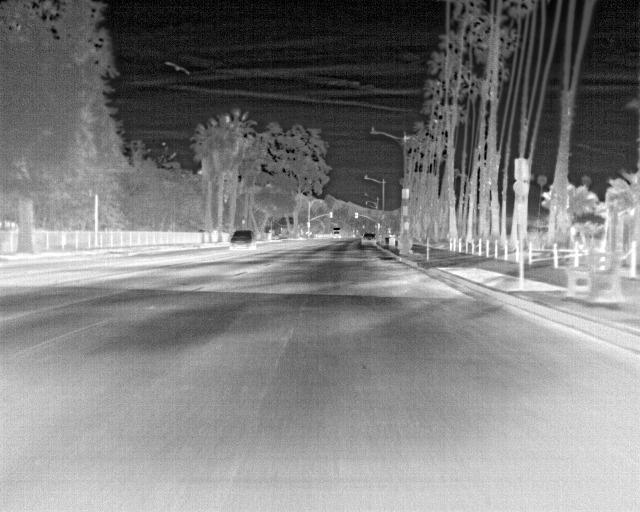car: (230, 228, 256, 249), (361, 233, 376, 247), (332, 227, 342, 238)
